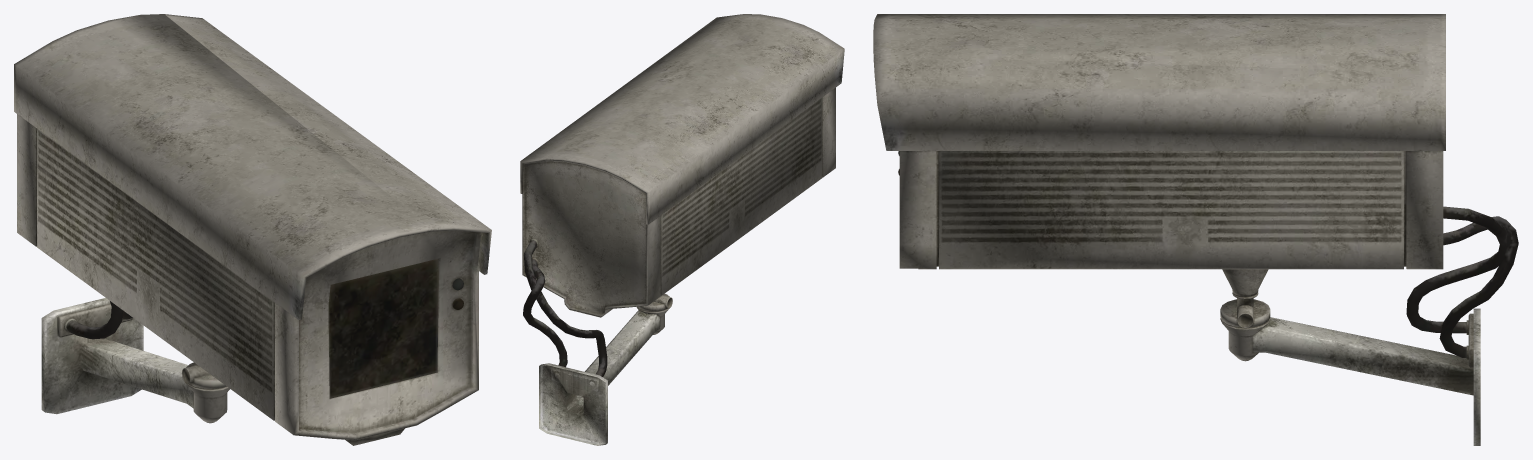
Rendered from cctv_camera.glb.
3 views of the same model, side by side, from view 1: azimuth 30°, elevation 25°; view 2: azimuth 150°, elevation 25°; view 3: azimuth 270°, elevation 25° (orthographic). The views are drawn at different scales.
Visible parts, largest first — view 1: CCTV_Camera_low (×2); view 2: CCTV_Camera_low (×2); view 3: CCTV_Camera_low (×2).
Part boxes in pixels (left/top/right/bottom): CCTV_Camera_low (×2): left=14, top=14, right=491, bottom=445; CCTV_Camera_low (×2): left=520, top=14, right=844, bottom=445; CCTV_Camera_low (×2): left=873, top=14, right=1518, bottom=445.
Size of the model in its own units: 0.663 by 1.33 by 2.
2 materials, 2 textured.
